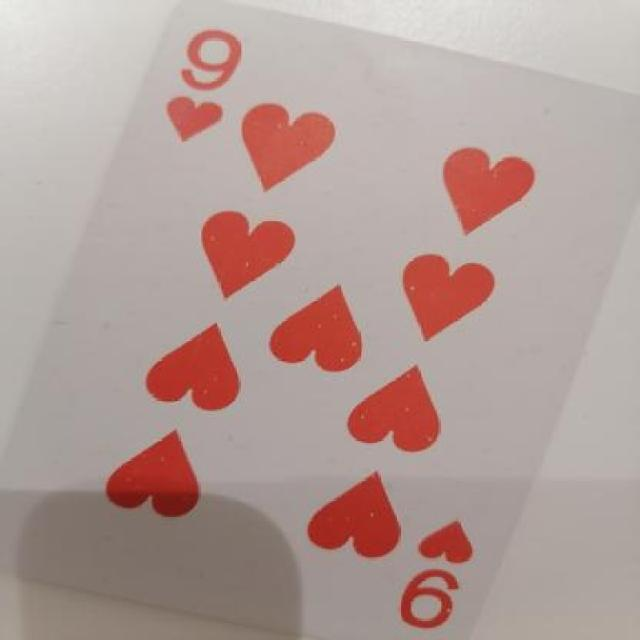9H: (150, 15, 281, 148), (391, 503, 509, 635)
